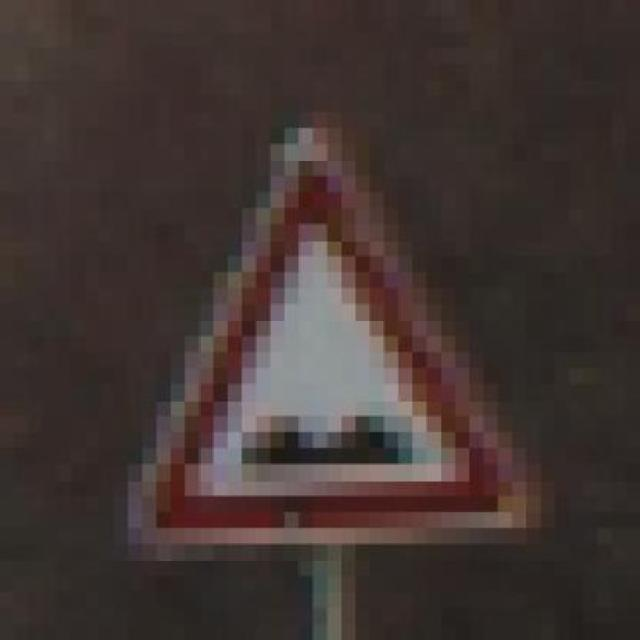Uneven Road: (128, 95, 555, 560)
